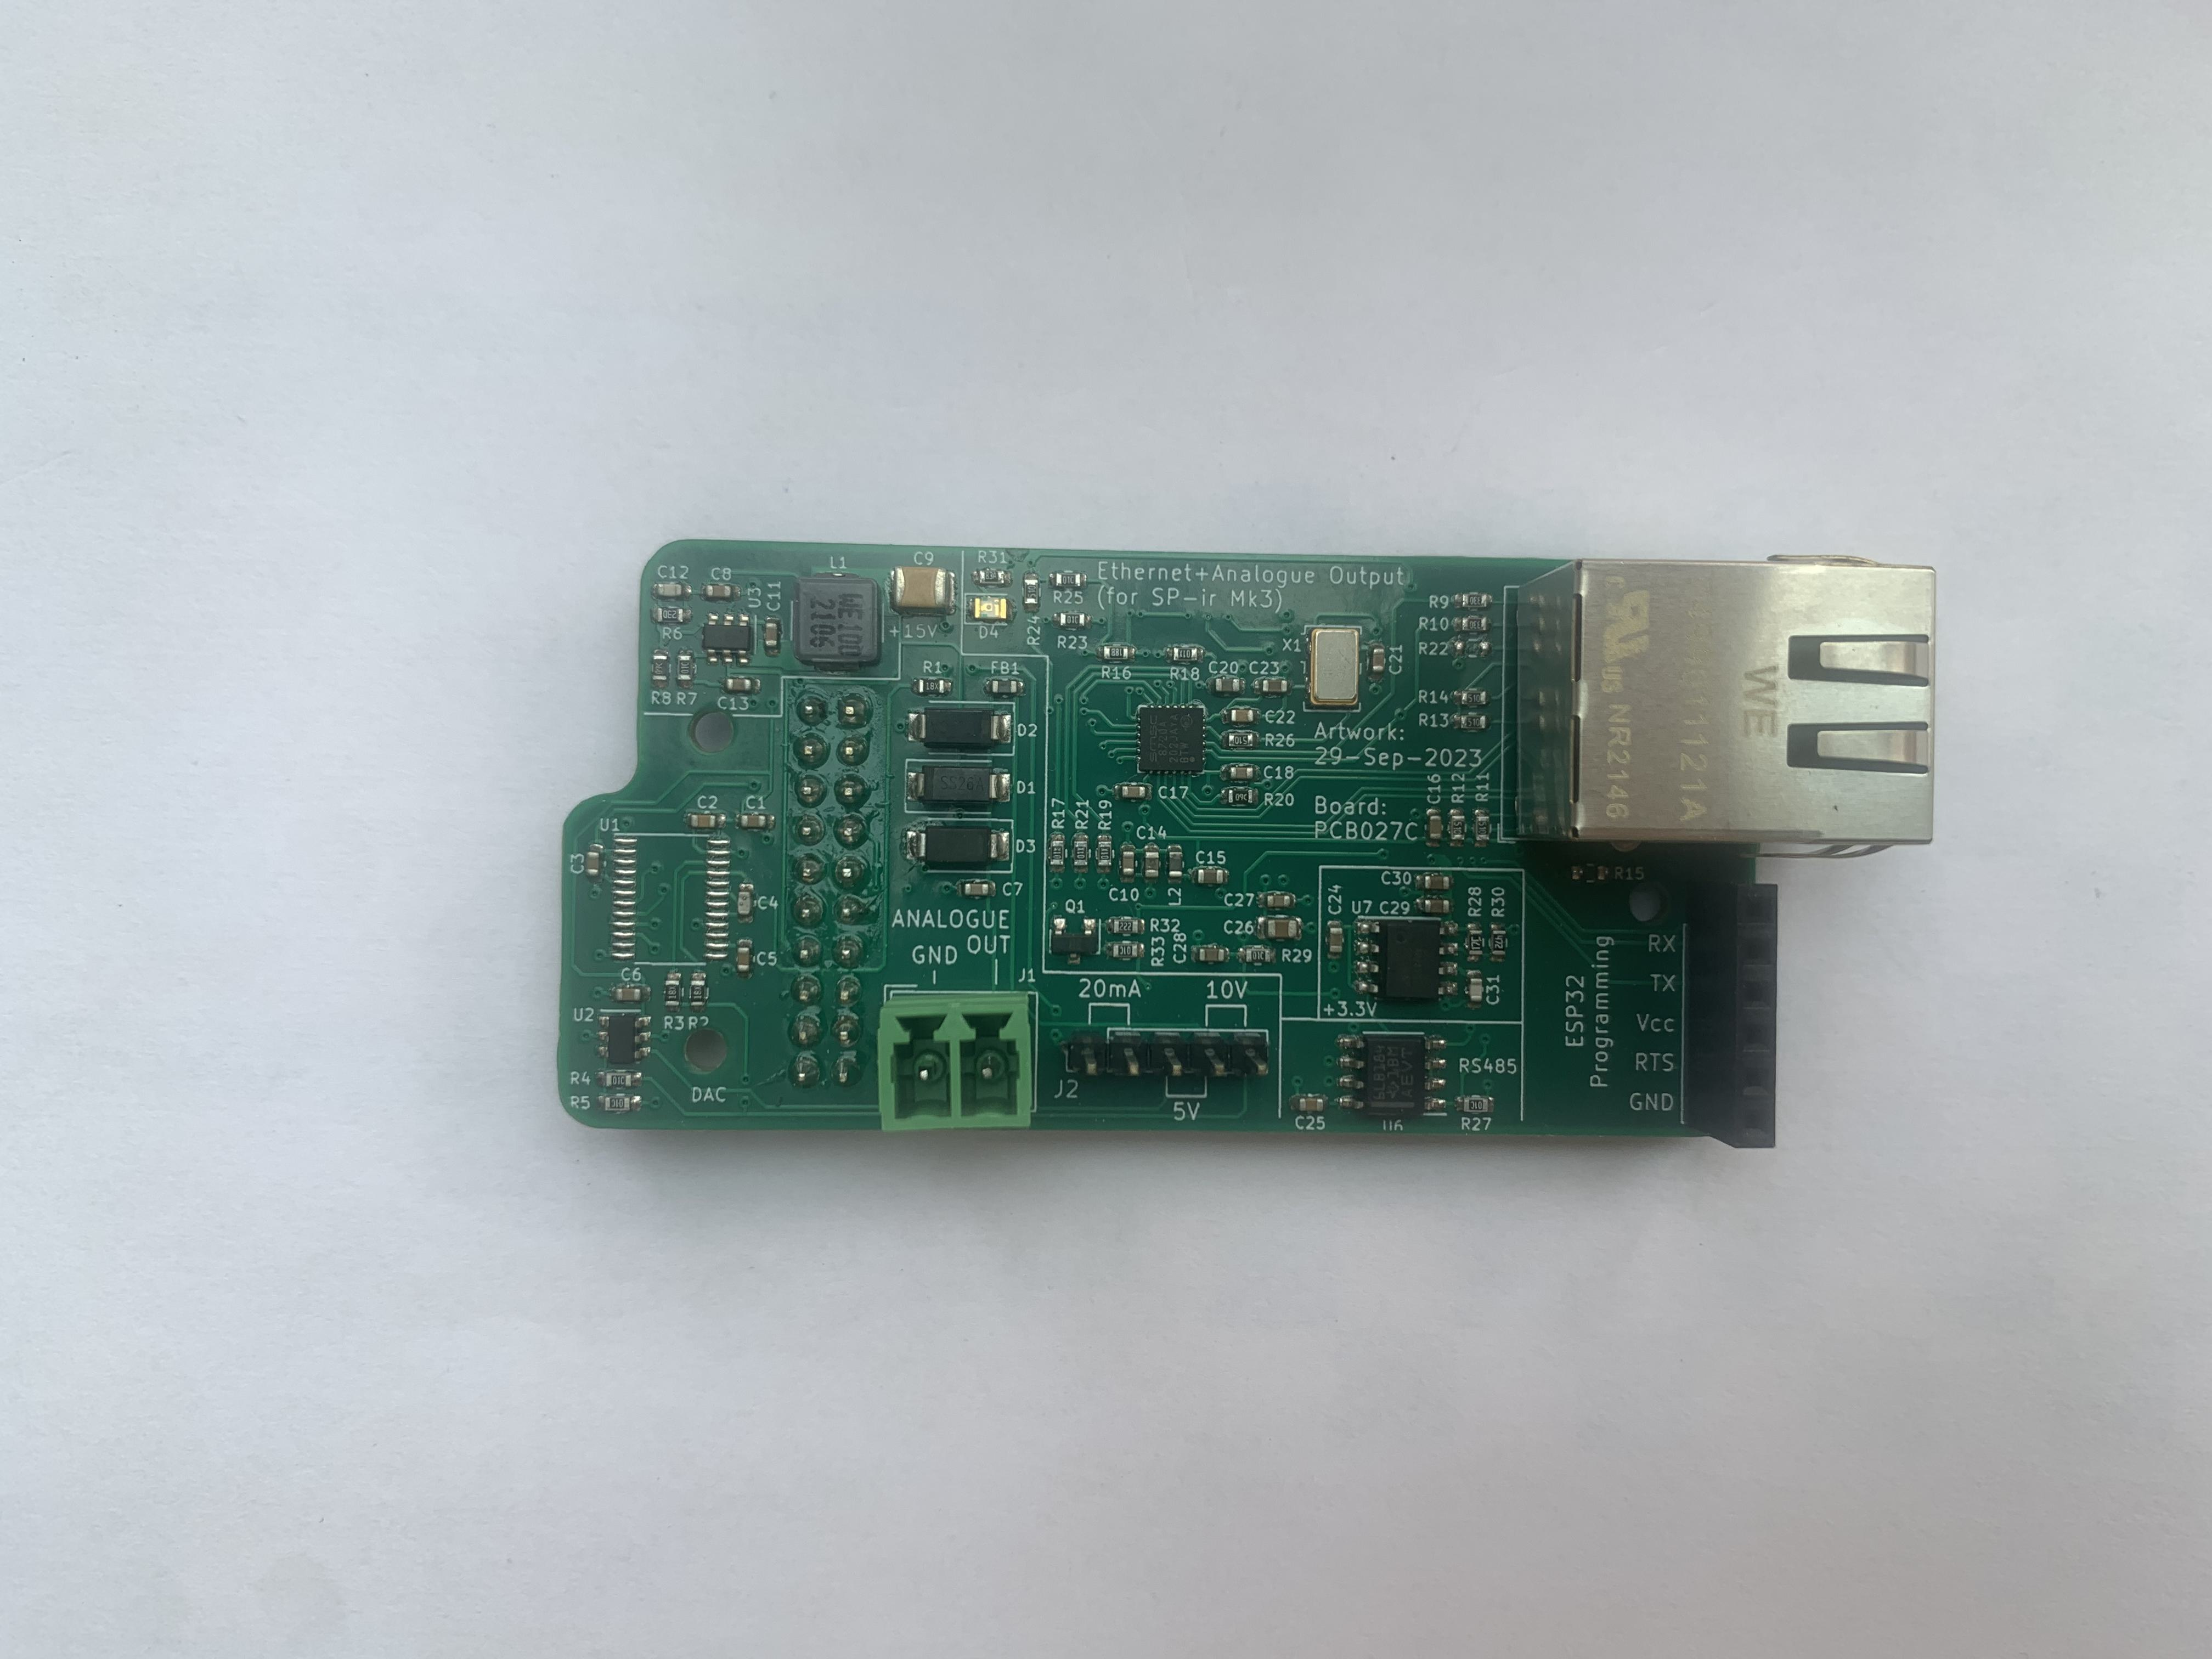buck: (597, 1011, 650, 1068), (702, 612, 754, 666)
cap1: (686, 810, 726, 830), (763, 619, 782, 657), (650, 582, 691, 599), (1211, 676, 1245, 697), (1221, 765, 1263, 782), (1195, 945, 1230, 965), (1191, 866, 1228, 885), (1425, 810, 1444, 847), (1292, 1096, 1329, 1115), (700, 584, 740, 601), (735, 814, 775, 831), (585, 847, 604, 882), (1141, 845, 1160, 880), (1465, 972, 1484, 1007), (960, 880, 996, 897), (1418, 875, 1454, 892), (1258, 678, 1291, 697), (1118, 782, 1151, 802), (1118, 847, 1137, 880), (725, 676, 759, 694), (1226, 708, 1261, 725), (1261, 892, 1296, 910), (1165, 847, 1183, 880), (613, 986, 650, 1002), (1418, 899, 1454, 915), (1371, 645, 1386, 681), (738, 885, 752, 924), (737, 943, 752, 976), (1329, 922, 1343, 958)
cap2: (890, 566, 958, 619), (1256, 913, 1303, 943)
con: (878, 992, 1036, 1131)
con2: (1688, 884, 1777, 1148)
con3: (1503, 559, 1932, 849)
con4: (787, 681, 885, 1094)
dac: (615, 835, 730, 964)
enet: (1137, 706, 1207, 775)
hole: (688, 702, 740, 756), (683, 1023, 730, 1075), (1625, 880, 1676, 927)
jumpers: (1064, 1026, 1270, 1079)
osc1: (794, 575, 880, 669)
osc2: (1305, 627, 1360, 711)
pcb: (556, 538, 1935, 1154)
rect: (906, 708, 1014, 746), (909, 765, 1012, 805), (907, 830, 1010, 864)
regulator: (1338, 1032, 1446, 1114), (1359, 917, 1458, 1002)
resistor: (596, 1072, 646, 1091), (913, 676, 954, 697), (596, 1094, 644, 1112), (1163, 645, 1204, 666), (1449, 809, 1470, 849), (1106, 917, 1146, 938), (1238, 945, 1275, 967), (974, 568, 1012, 589), (1022, 573, 1042, 613), (1096, 835, 1115, 875), (1454, 1096, 1494, 1115), (1463, 925, 1484, 962), (664, 974, 683, 1012), (690, 974, 709, 1012), (1050, 572, 1089, 591), (1071, 835, 1090, 873), (1106, 943, 1144, 962), (1489, 925, 1508, 962), (653, 606, 693, 624), (1052, 613, 1092, 631), (1221, 732, 1261, 749), (1474, 809, 1491, 849), (676, 650, 693, 688), (1099, 645, 1137, 662), (1454, 617, 1493, 634), (1049, 835, 1066, 873), (1223, 788, 1259, 805), (1456, 592, 1493, 610), (1454, 690, 1491, 708), (1454, 714, 1489, 732), (653, 652, 669, 688)
text: (1552, 908, 1684, 1127), (1092, 556, 1418, 620), (1313, 718, 1423, 850), (888, 892, 1015, 978), (1312, 746, 1493, 803), (1409, 580, 1456, 727), (1310, 857, 1418, 920), (1425, 746, 1493, 803), (1191, 976, 1254, 1030), (1080, 976, 1144, 1023), (568, 999, 594, 1114), (1042, 795, 1113, 831), (1162, 1080, 1214, 1126), (1317, 995, 1381, 1025), (1456, 1054, 1519, 1080), (890, 617, 946, 645), (690, 1084, 730, 1107), (1054, 631, 1090, 653), (765, 577, 784, 612)
tracks: (1303, 716, 1416, 854), (1057, 664, 1141, 781), (1042, 1089, 1259, 1133), (1108, 598, 1301, 645), (641, 842, 702, 962), (648, 739, 772, 798), (1170, 805, 1310, 849), (1449, 1006, 1508, 1091)
transistor: (1049, 915, 1101, 964)
unknown: (967, 596, 1010, 626)
unknown2: (986, 680, 1024, 697)
unknown3: (1571, 863, 1609, 884)
